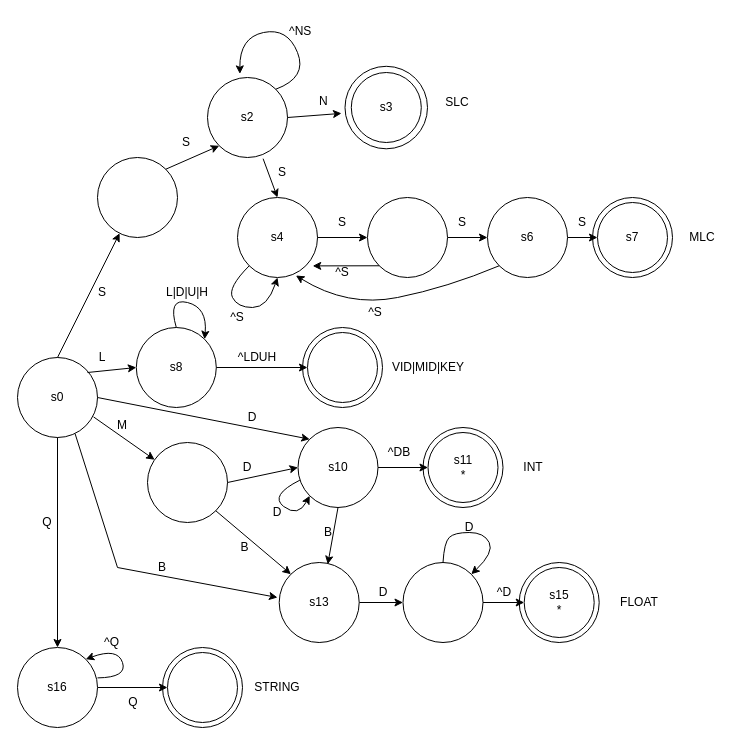
This 750x745 diagram has some shape labels left out. Each missing label, with the box of its shape:
s1: (96, 156, 178, 238)
s12: (146, 442, 228, 522)
s14: (402, 562, 483, 642)
s17: (166, 652, 238, 722)
s5: (366, 196, 448, 278)
s9 *: (306, 332, 378, 402)
